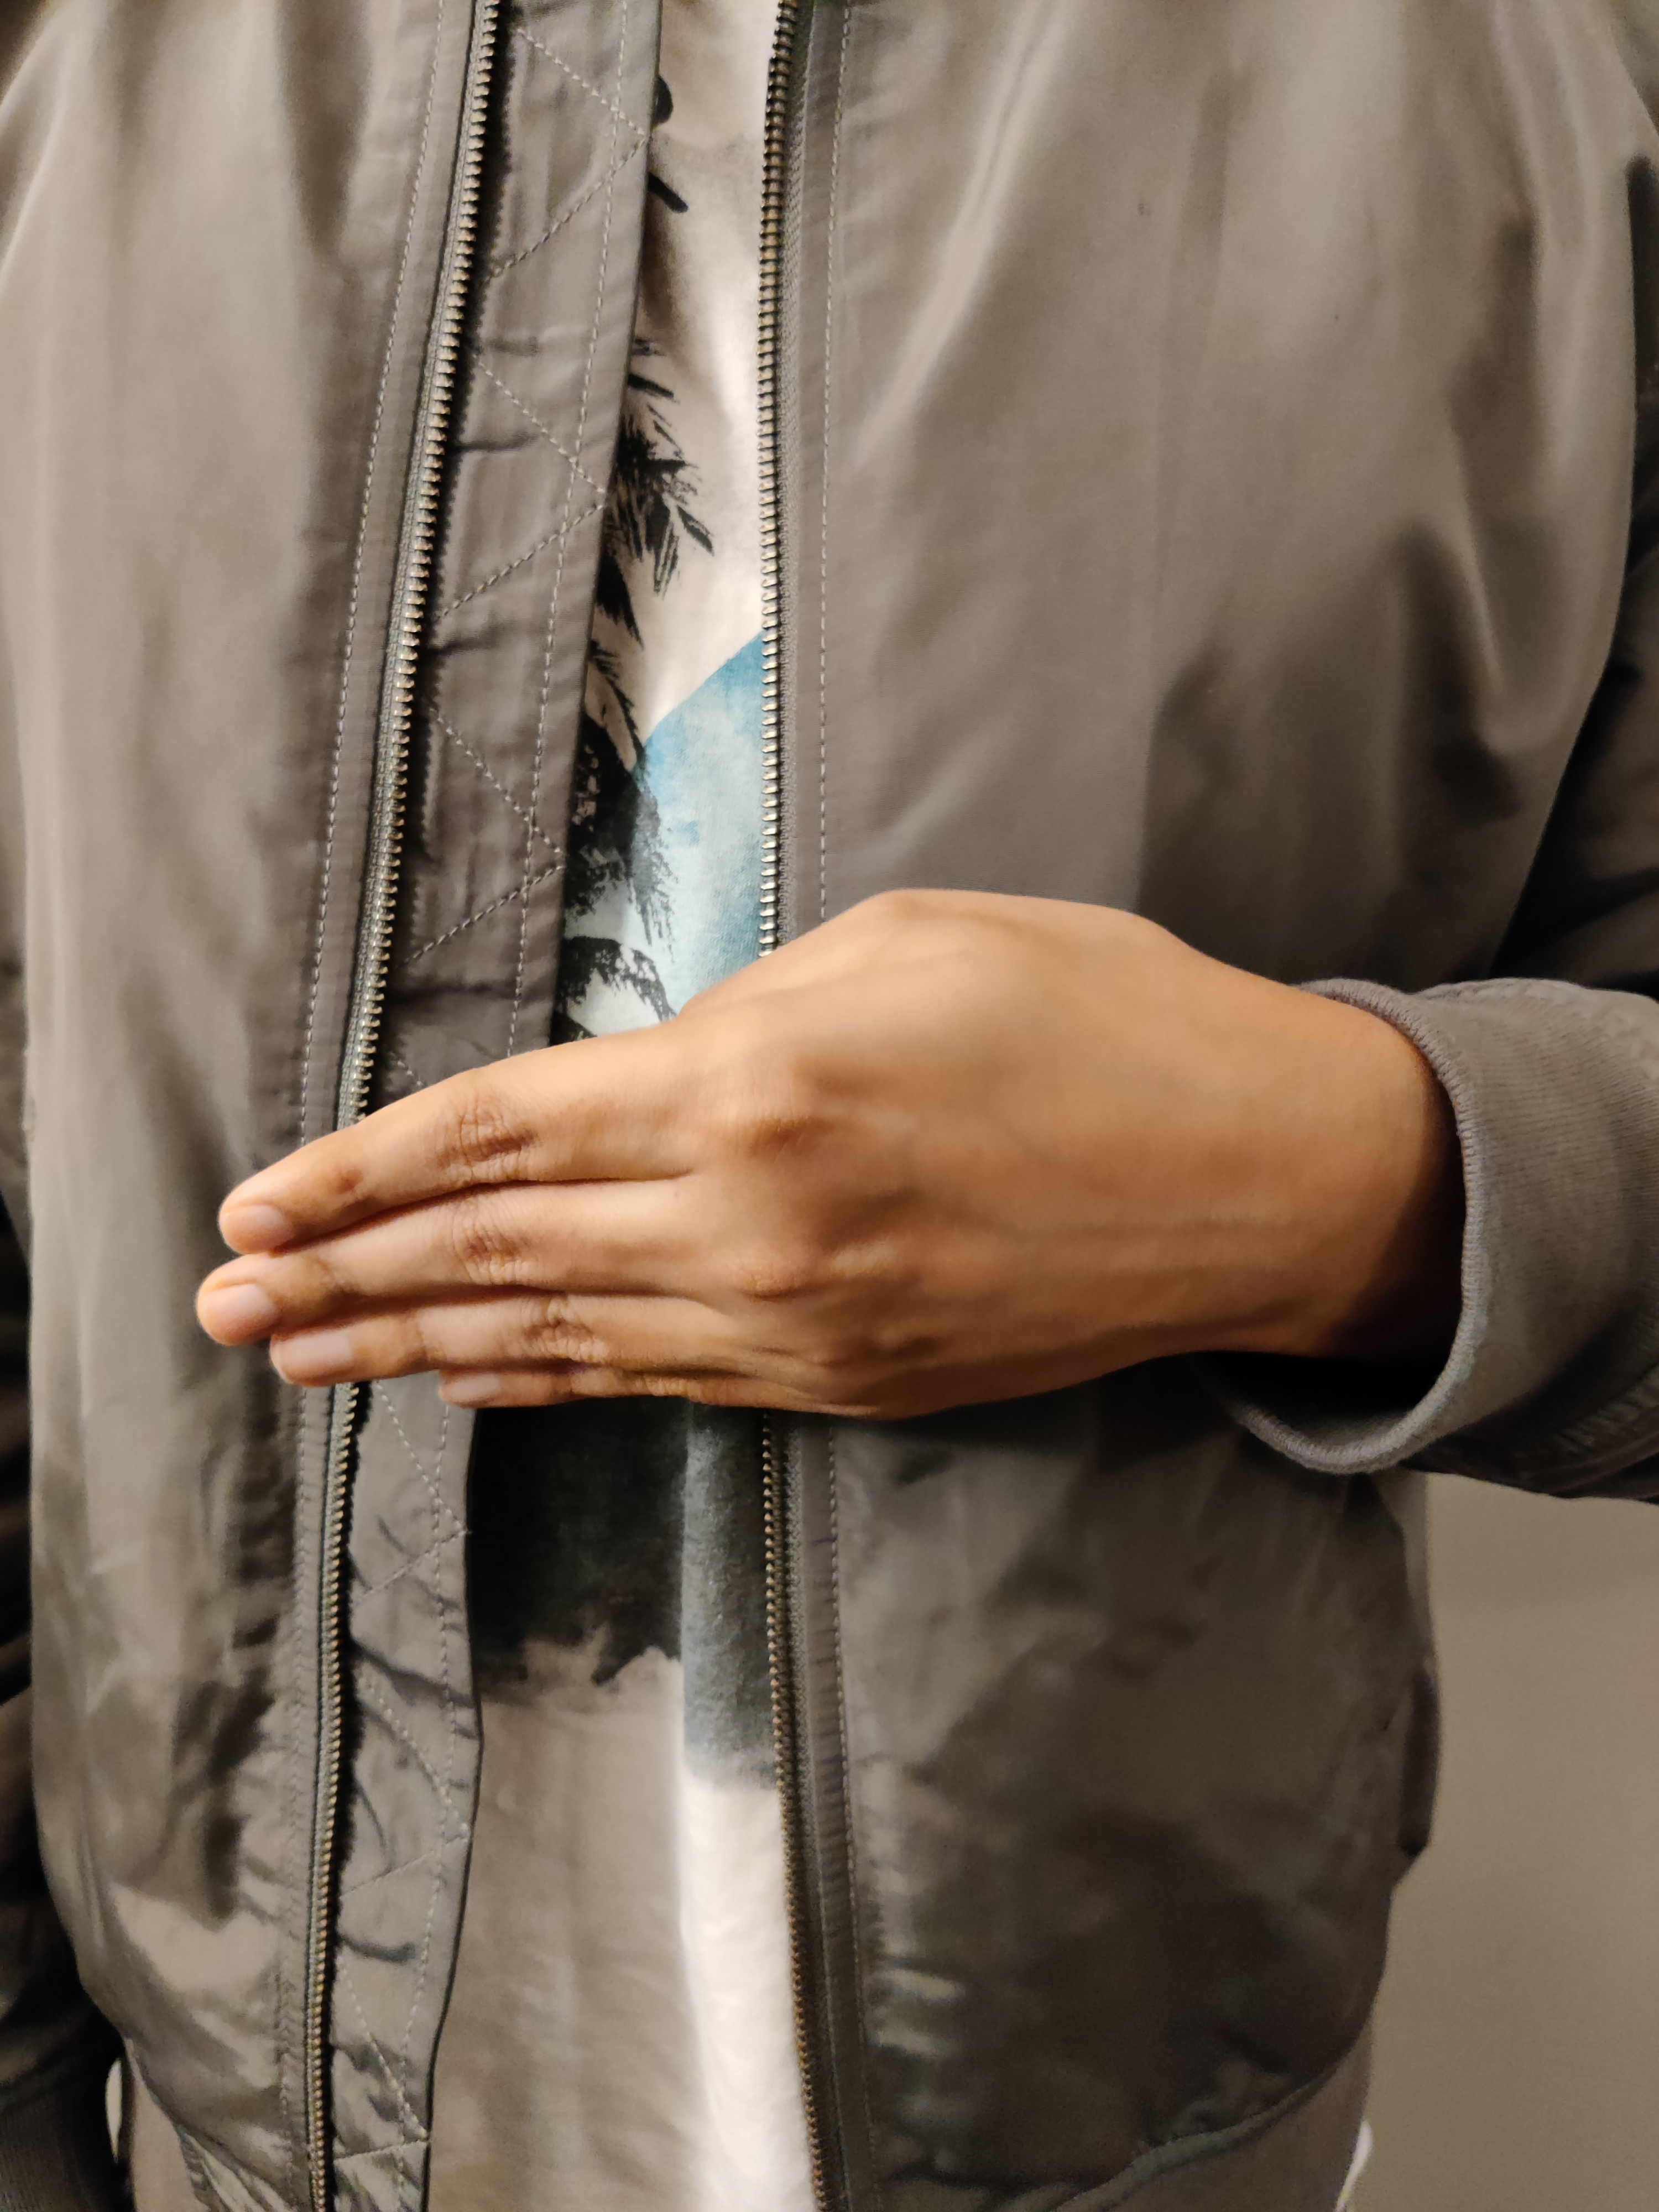right: (118, 712, 1568, 1676)
